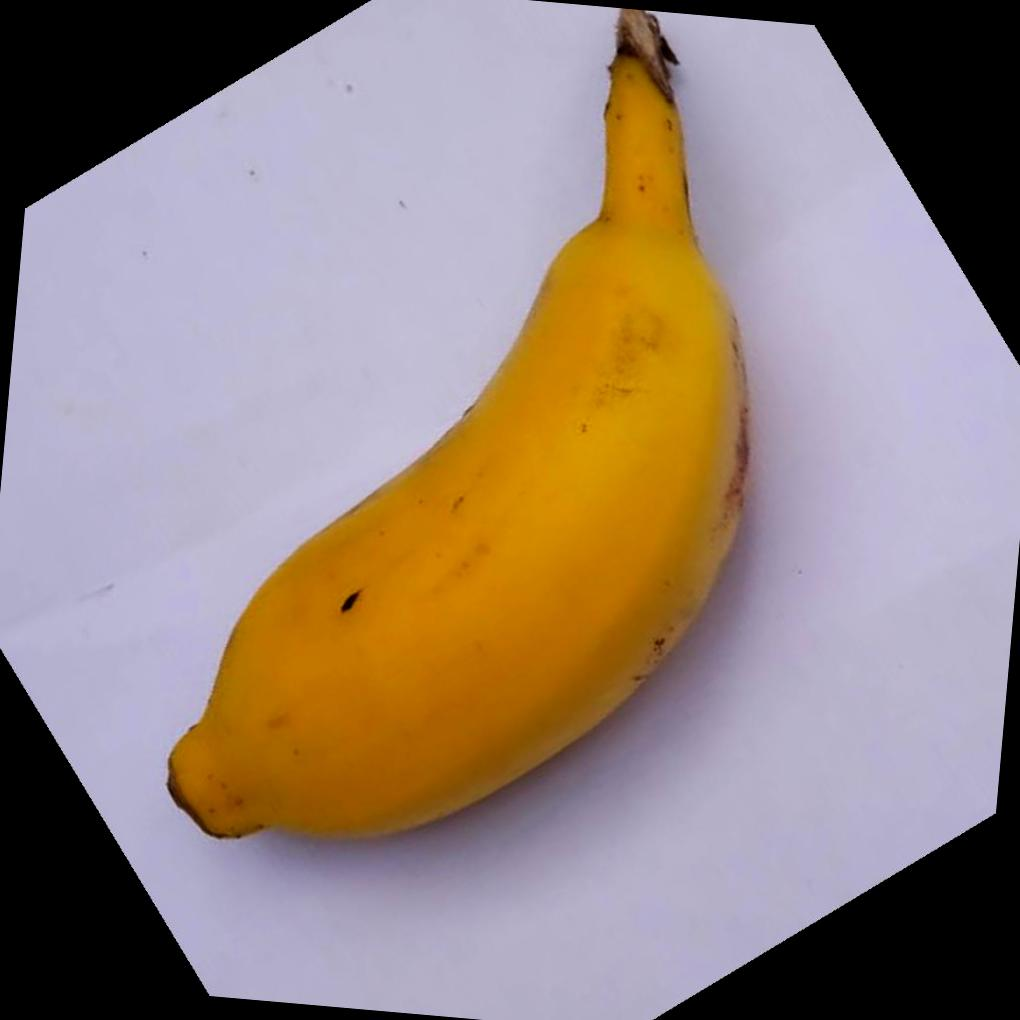Banana Ripe: (133, 0, 834, 935)
